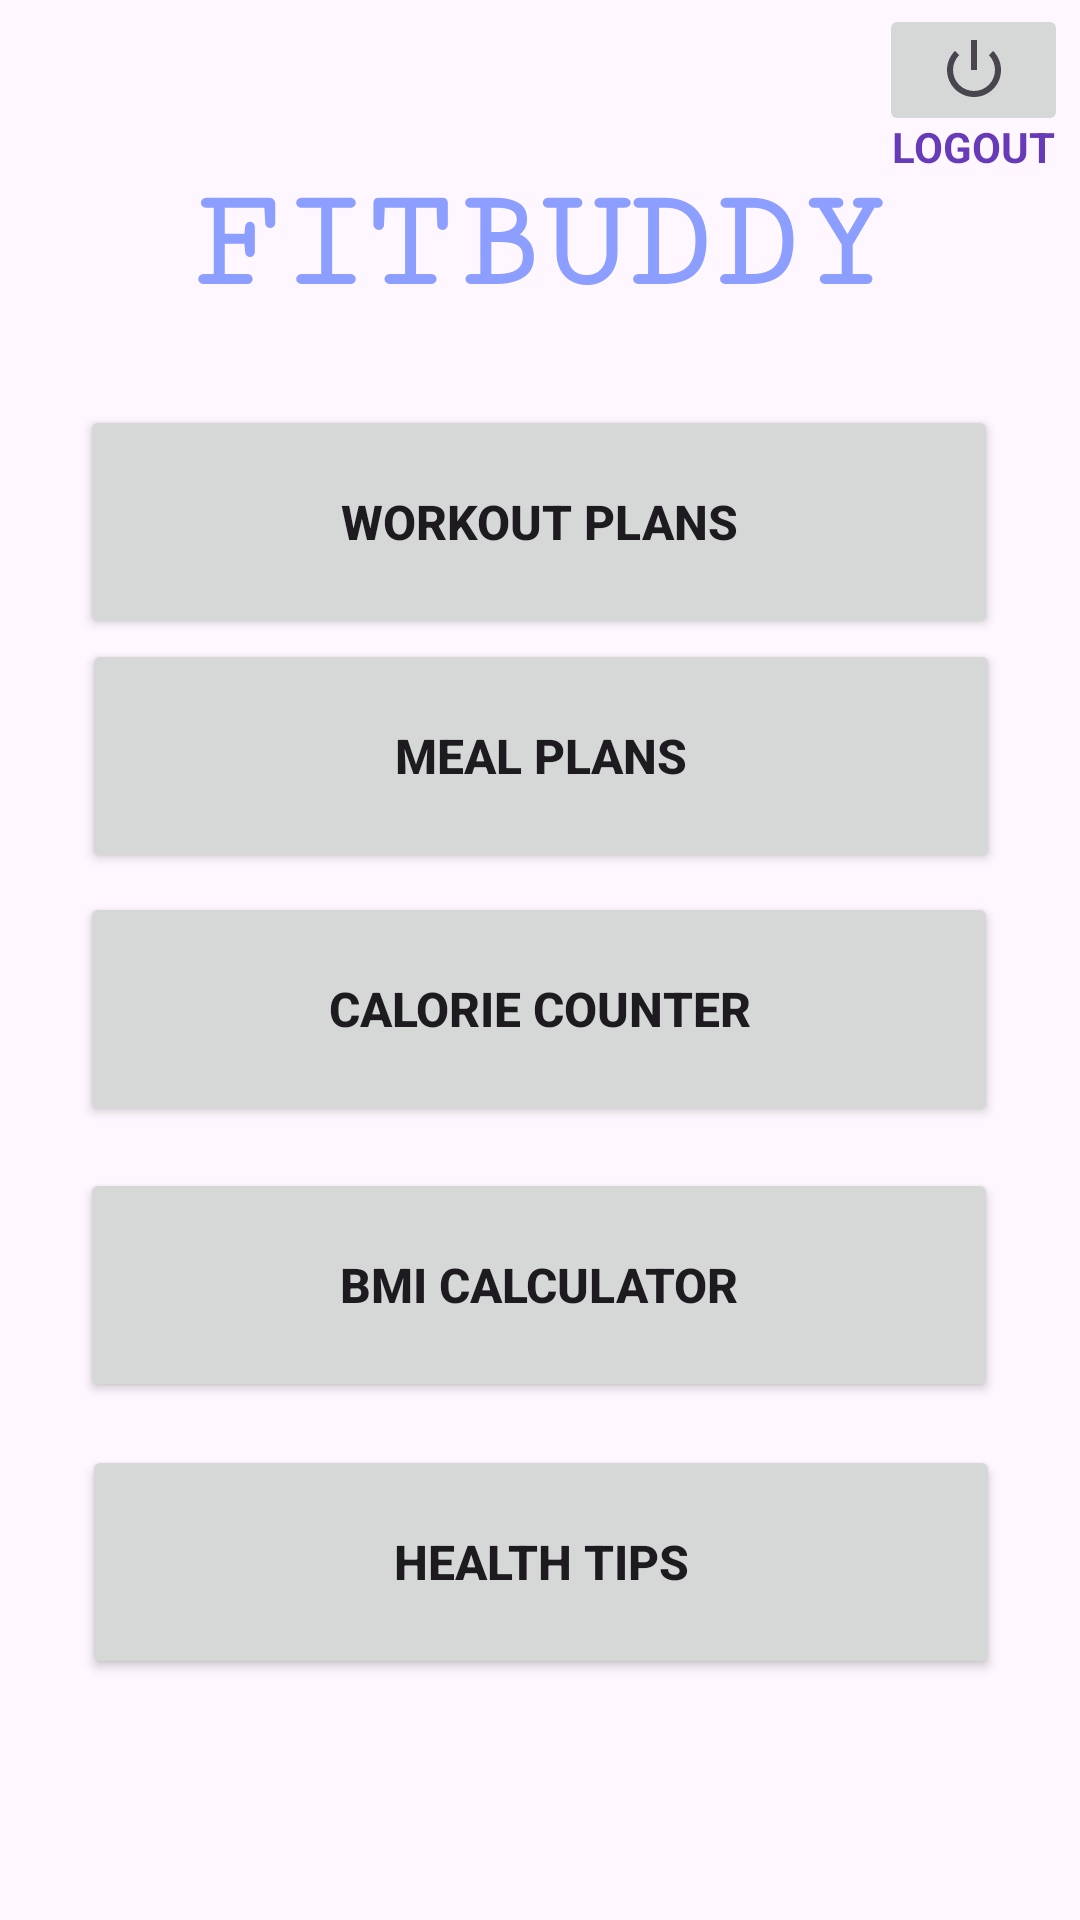

Where to tap for icons on this 1080×1920 app screen, as [x,y]:
lock power off: [973,70]
